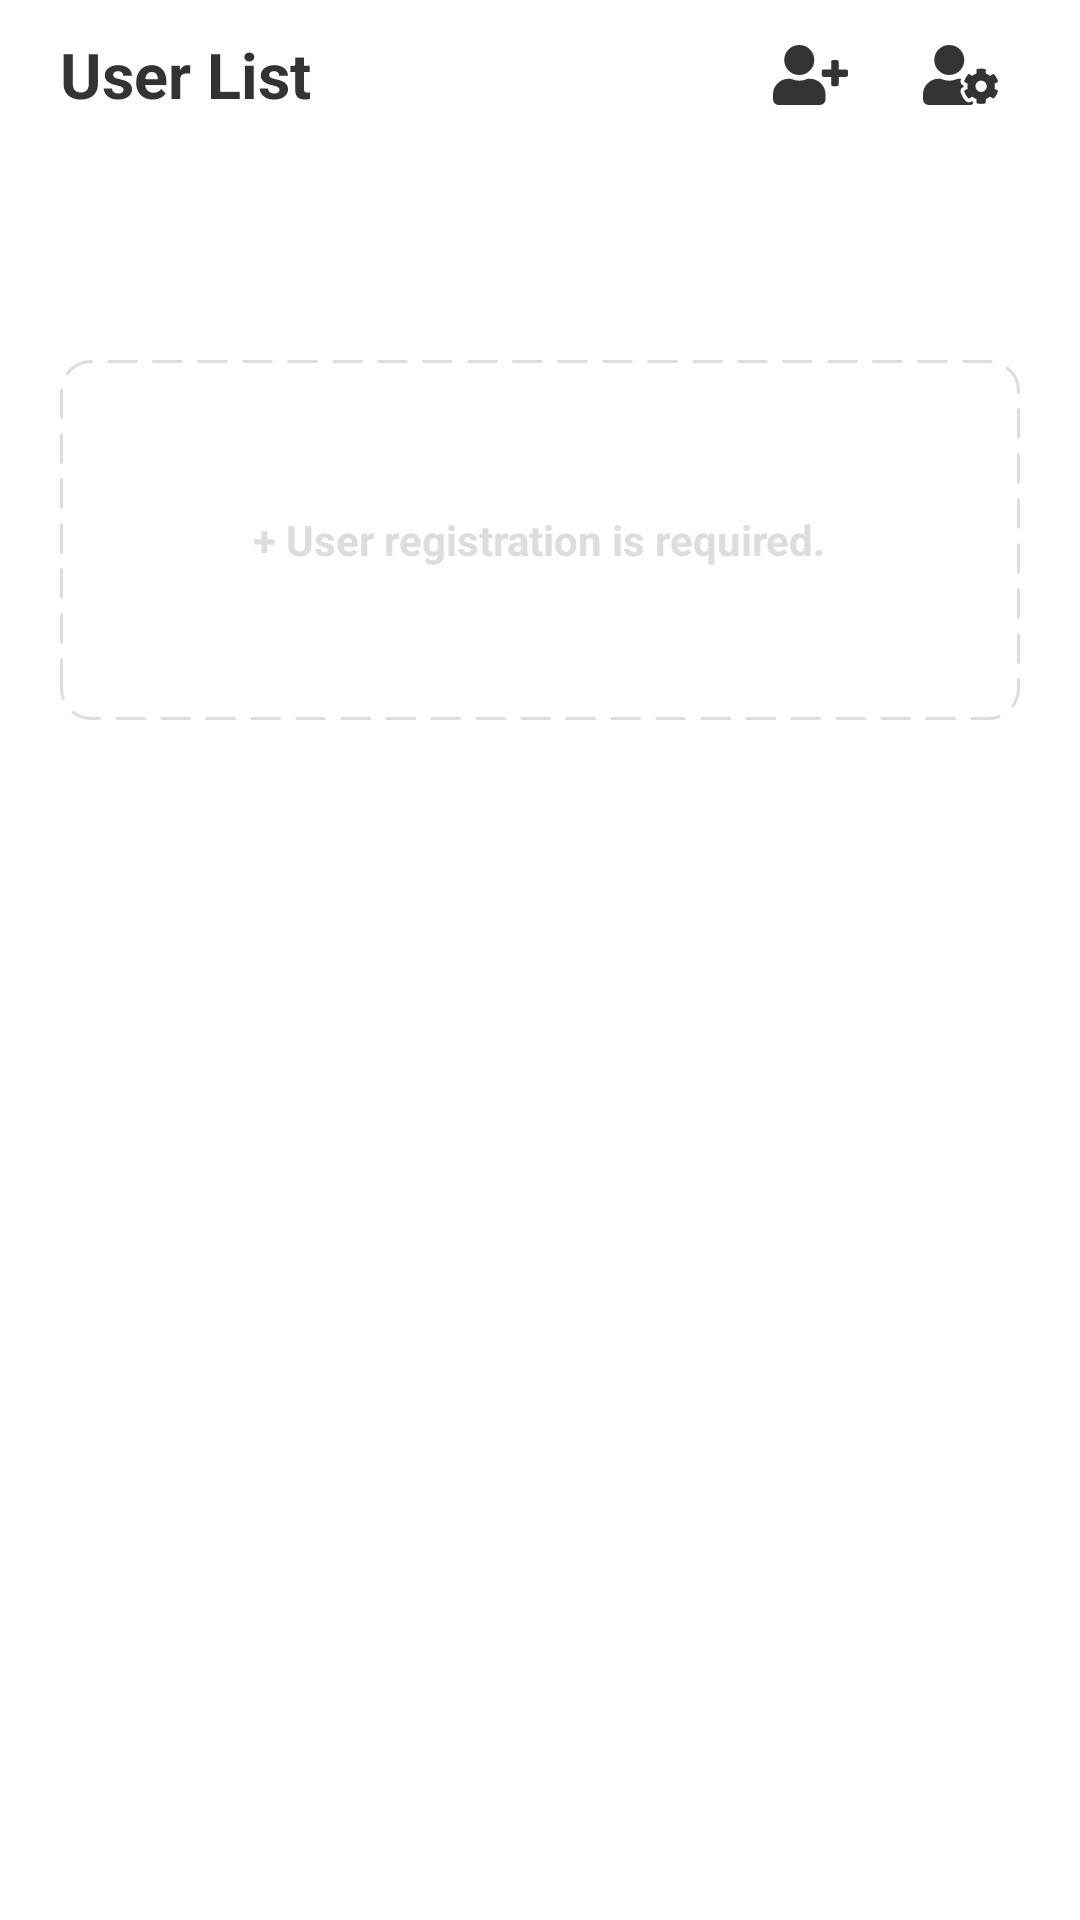

Icons on this 1080w x 1920h Android screen, each with its box as (x1, y1, x2, y2):
awesome user cog: (923, 45, 998, 105)
awesome user plus: (773, 45, 848, 105)
